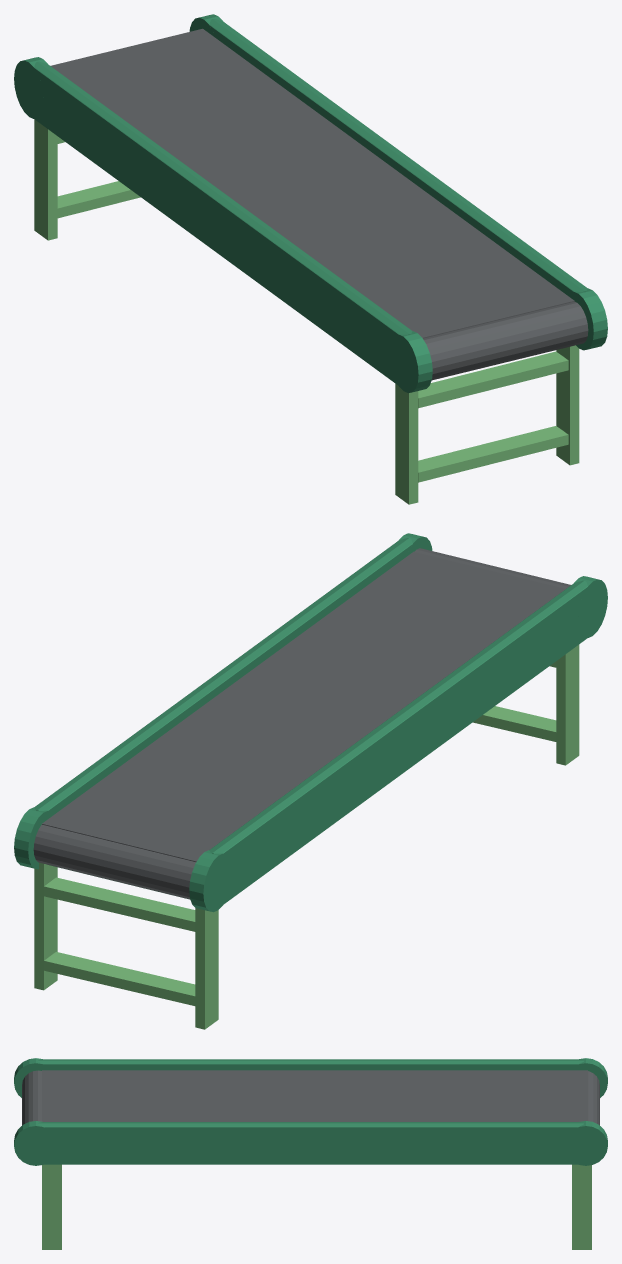
Rendered from Conveyor1.fbx.
3 views of the same model, one above another, from view 1: azimuth 30°, elevation 25°; view 2: azimuth 150°, elevation 25°; view 3: azimuth 270°, elevation 25° (orthographic). The views are drawn at different scales.
Visible parts, largest first — view 1: Mesh_Mesh_head_geo.001_lambert2SG.001; view 2: Mesh_Mesh_head_geo.001_lambert2SG.001; view 3: Mesh_Mesh_head_geo.001_lambert2SG.001.
Boxes of the visible parts, box(x1,y1,x2,y2) form: Mesh_Mesh_head_geo.001_lambert2SG.001: box(14, 14, 607, 504); Mesh_Mesh_head_geo.001_lambert2SG.001: box(14, 533, 607, 1029); Mesh_Mesh_head_geo.001_lambert2SG.001: box(14, 1058, 607, 1249).
Bounding box in the file's own units: 4000 × 3500 × 14800.
